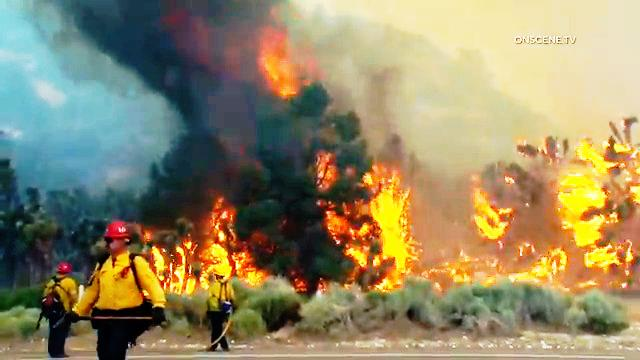fire: (335, 169, 419, 273), (556, 139, 605, 257)
smoke: (92, 2, 298, 97)
